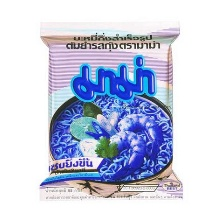snack: (31, 12, 189, 207)
